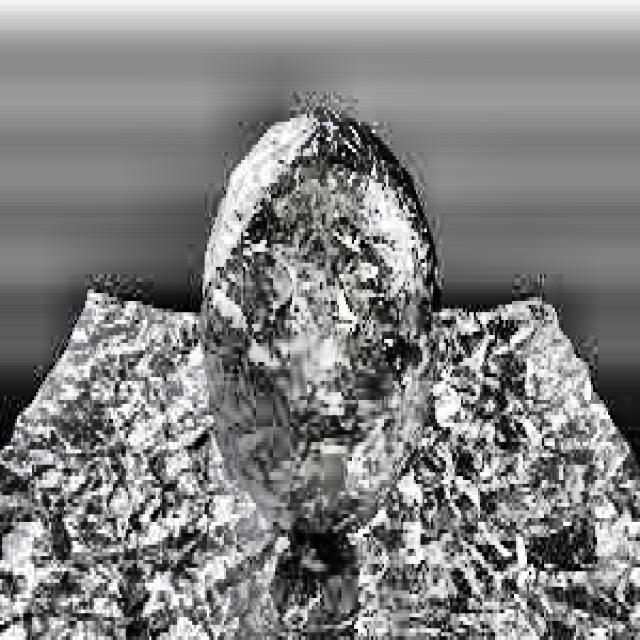Foil: (0, 262, 640, 640), (191, 106, 460, 531)
